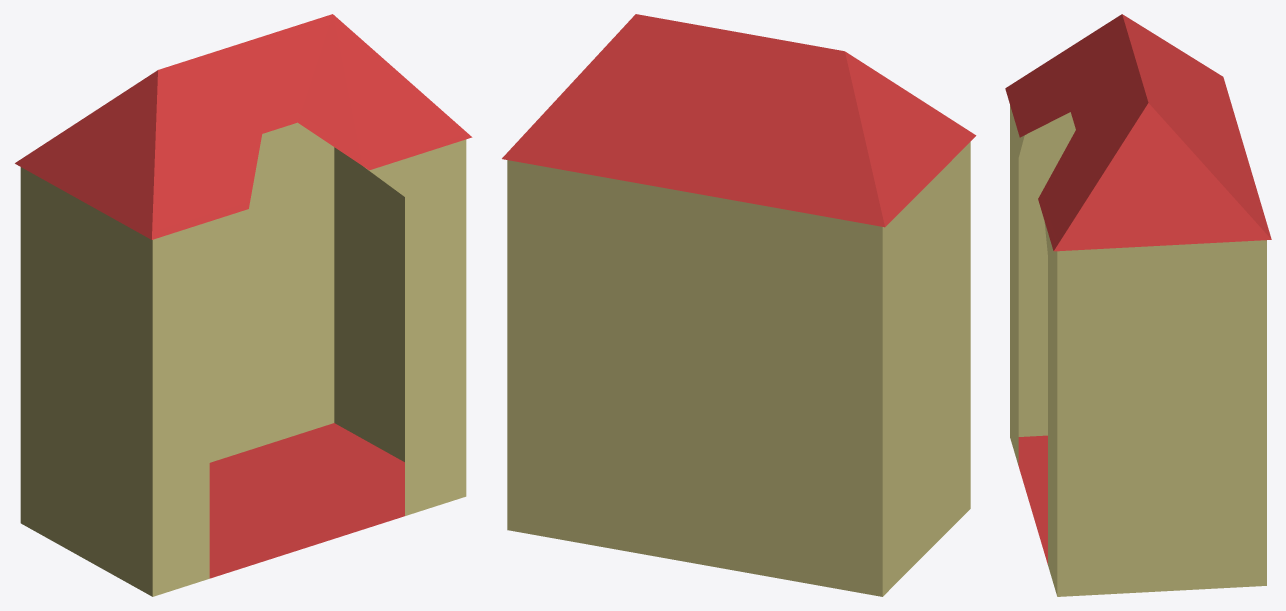
The picture shows the model from 3 angles, left to right: view 1: azimuth 30°, elevation 25°; view 2: azimuth 150°, elevation 25°; view 3: azimuth 270°, elevation 25°; orthographic projection. The views are drawn at different scales.
Bounding box in the file's own units: 23.8 × 15.35 × 28.81.
